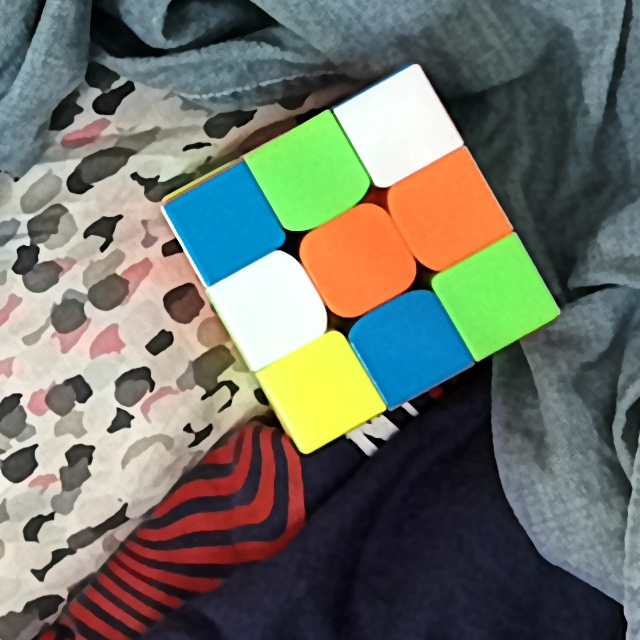tile: (272, 143, 347, 207), (320, 230, 392, 296), (374, 311, 444, 377), (363, 98, 436, 161), (190, 191, 259, 255), (236, 275, 302, 341), (284, 361, 353, 422), (413, 179, 480, 241), (465, 263, 527, 327)
